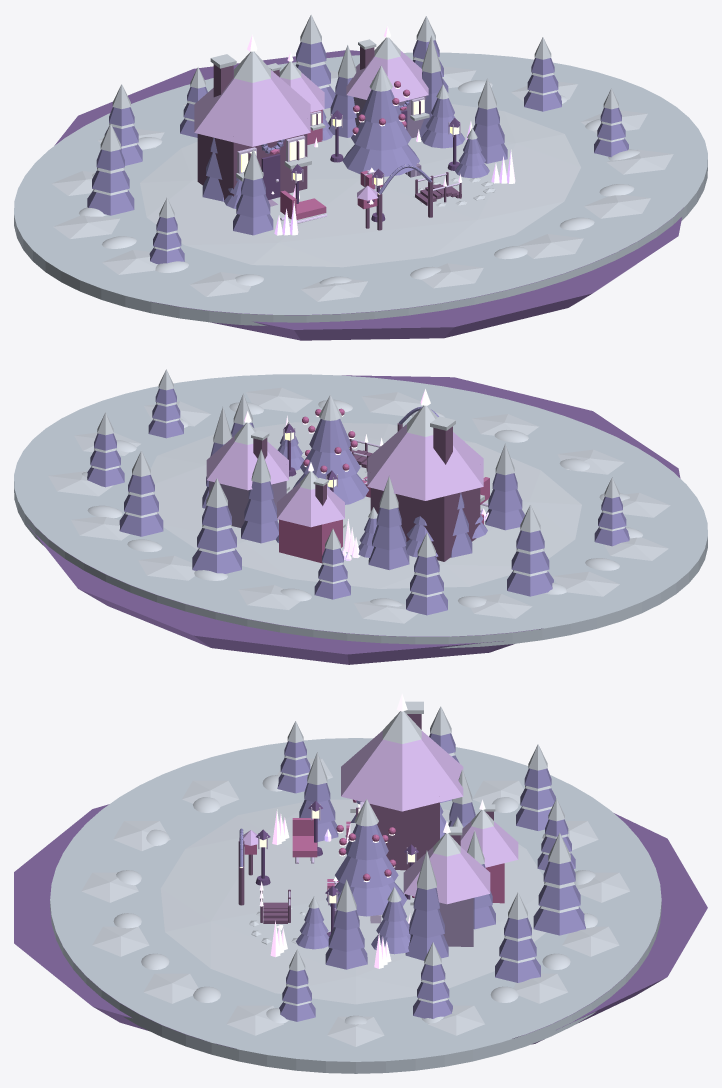
File: forest.glb
3 renders of one model, top to bottom at view 1: azimuth 30°, elevation 25°; view 2: azimuth 150°, elevation 25°; view 3: azimuth 270°, elevation 25°, orthographic. The views are drawn at different scales.
Parts seen in each view (by area): view 1: Continuous snow surface, Snow plateau, Floating island terrace, Fairy cottage crystal roof (×3), Full island snow blanket, Outer winter pine (×5), Cottage walls.001, Frost forest canopy (×3), Faceted pine, Faceted pine.001, Snow edge.013, Snow edge.007 (+14 smaller); view 2: Continuous snow surface, Snow plateau, Floating island terrace, Fairy cottage crystal roof (×3), Outer winter pine (×15), Full island snow blanket, Frost forest canopy (×6), Cottage walls.001, Cottage walls, Faceted pine.001, Snow edge.013, Snow edge.007 (+18 smaller); view 3: Continuous snow surface, Snow plateau, Floating island terrace, Fairy cottage crystal roof (×3), Full island snow blanket, Outer winter pine (×8), Frost forest canopy (×4), Cottage walls.001, Faceted pine.001, Cottage walls.002, Faceted pine, Snow edge.013 (+14 smaller).
Part boxes in pixels (box(x1,y1,x2,y2)): Continuous snow surface: box(14, 52, 707, 314); Snow plateau: box(140, 104, 580, 267); Floating island terrace: box(54, 50, 683, 340); Fairy cottage crystal roof (×3): box(194, 51, 428, 146); Full island snow blanket: box(14, 160, 707, 325); Outer winter pine (×5): box(87, 42, 561, 215); Cottage walls.001: box(197, 134, 307, 199); Frost forest canopy (×3): box(233, 123, 504, 235); Faceted pine: box(342, 144, 419, 176); Faceted pine.001: box(351, 120, 411, 150); Snow edge.013: box(584, 195, 650, 218); Snow edge.007: box(53, 215, 119, 238); Continuous snow surface: box(14, 374, 707, 636); Snow plateau: box(150, 422, 581, 588); Floating island terrace: box(27, 375, 680, 664); Fairy cottage crystal roof (×3): box(206, 424, 483, 527); Outer winter pine (×15): box(87, 419, 629, 615); Full island snow blanket: box(14, 481, 707, 648); Frost forest canopy (×6): box(241, 489, 524, 569); Cottage walls.001: box(370, 488, 480, 561); Cottage walls: box(279, 519, 342, 563); Faceted pine.001: box(300, 448, 360, 479); Snow edge.013: box(245, 387, 312, 412); Snow edge.007: box(553, 571, 619, 596); Continuous snow surface: box(50, 738, 661, 1061); Snow plateau: box(160, 799, 545, 1004); Floating island terrace: box(14, 804, 707, 1048); Fairy cottage crystal roof (×3): box(341, 731, 518, 904); Full island snow blanket: box(50, 901, 661, 1073); Outer winter pine (×8): box(413, 788, 585, 1018); Frost forest canopy (×4): box(325, 908, 448, 969); Cottage walls.001: box(370, 802, 439, 870); Faceted pine.001: box(335, 855, 398, 888); Cottage walls.002: box(439, 898, 473, 946); Faceted pine: box(326, 882, 407, 916); Snow edge.013: box(143, 973, 198, 1003).
Size of what is drawn, in the model's own units: 4.96 by 1.86 by 4.49.
